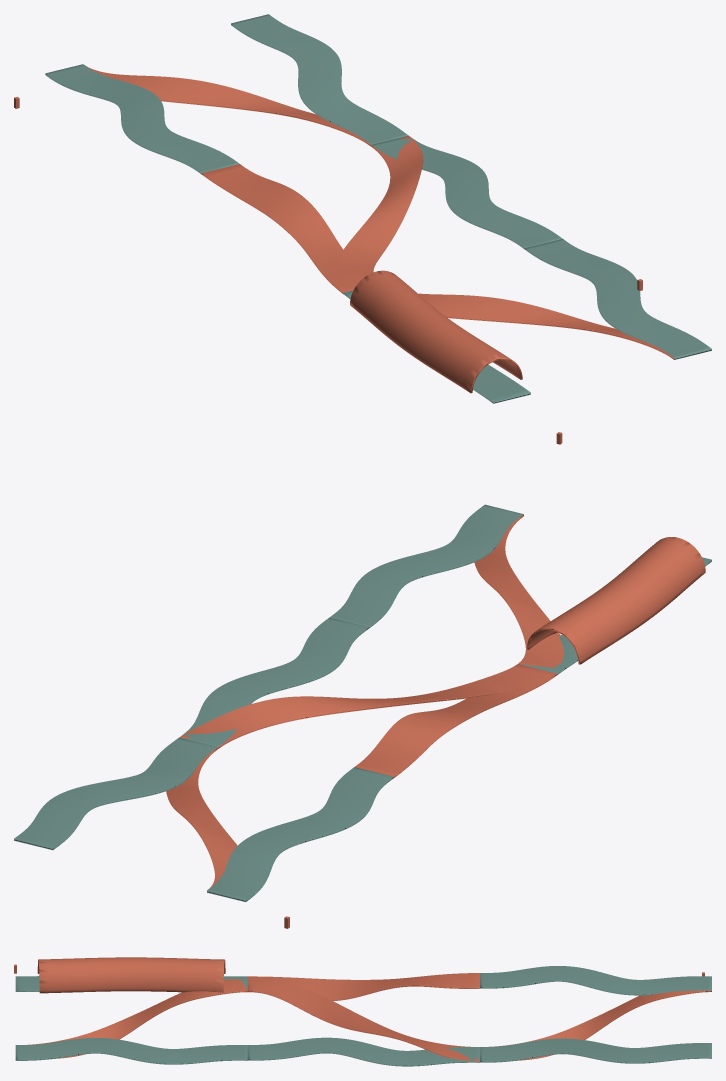
Rendered from topogenesis.glb.
The picture shows the model from 3 angles, top to bottom: view 1: azimuth 30°, elevation 25°; view 2: azimuth 150°, elevation 25°; view 3: azimuth 270°, elevation 25°; orthographic projection. The views are drawn at different scales.
Visible parts, largest first — view 1: port-0-2-to-port-0-3-vault-render, port-1-0-to-port-1-1-deck-render, port-1-2-to-port-1-3-deck-render, port-0-0-to-port-0-1-deck-render, port-0-1-to-port-0-2-deck-render, port-1-1-to-port-1-2-deck-render, port-1-1-to-port-0-2-deck-render, port-0-0-to-port-1-1-deck-render, port-0-2-to-port-1-3-deck-render, port-0-2-to-port-0-3-deck-render; view 2: port-0-2-to-port-0-3-vault-render, port-0-0-to-port-0-1-deck-render, port-1-2-to-port-1-3-deck-render, port-1-0-to-port-1-1-deck-render, port-1-1-to-port-1-2-deck-render, port-0-1-to-port-0-2-deck-render, port-1-1-to-port-0-2-deck-render, port-0-2-to-port-1-3-deck-render, port-0-0-to-port-1-1-deck-render; view 3: port-0-2-to-port-0-3-vault-render, port-1-2-to-port-1-3-deck-render, port-1-0-to-port-1-1-deck-render, port-0-0-to-port-0-1-deck-render, port-1-1-to-port-1-2-deck-render, port-0-1-to-port-0-2-deck-render, port-1-1-to-port-0-2-deck-render, port-0-2-to-port-1-3-deck-render, port-0-0-to-port-1-1-deck-render, port-0-2-to-port-0-3-deck-render.
Part boxes in pixels (x1,y1,x2,y2): port-0-2-to-port-0-3-vault-render: (350, 270, 522, 393); port-1-0-to-port-1-1-deck-render: (231, 14, 408, 144); port-1-2-to-port-1-3-deck-render: (525, 239, 711, 359); port-0-0-to-port-0-1-deck-render: (45, 64, 239, 174); port-0-1-to-port-0-2-deck-render: (202, 164, 368, 294); port-1-1-to-port-1-2-deck-render: (371, 136, 562, 249); port-1-1-to-port-0-2-deck-render: (334, 135, 423, 273); port-0-0-to-port-1-1-deck-render: (85, 65, 371, 146); port-0-2-to-port-1-3-deck-render: (418, 293, 674, 359); port-0-2-to-port-0-3-deck-render: (344, 290, 530, 403); port-0-2-to-port-0-3-vault-render: (526, 537, 705, 664); port-0-0-to-port-0-1-deck-render: (207, 767, 393, 901); port-1-2-to-port-1-3-deck-render: (329, 504, 523, 628); port-1-0-to-port-1-1-deck-render: (14, 737, 217, 850); port-1-1-to-port-1-2-deck-render: (180, 617, 368, 746); port-0-1-to-port-0-2-deck-render: (355, 664, 556, 777); port-1-1-to-port-0-2-deck-render: (179, 665, 515, 748); port-0-2-to-port-1-3-deck-render: (474, 514, 563, 668); port-0-0-to-port-1-1-deck-render: (166, 747, 237, 889); port-0-2-to-port-0-3-vault-render: (37, 957, 225, 993); port-1-2-to-port-1-3-deck-render: (15, 1038, 247, 1064); port-1-0-to-port-1-1-deck-render: (480, 1038, 711, 1063); port-0-0-to-port-0-1-deck-render: (480, 966, 711, 995); port-1-1-to-port-1-2-deck-render: (247, 1037, 479, 1066); port-0-1-to-port-0-2-deck-render: (247, 973, 479, 1000); port-1-1-to-port-0-2-deck-render: (247, 982, 479, 1061); port-0-2-to-port-1-3-deck-render: (27, 978, 247, 1058); port-0-0-to-port-1-1-deck-render: (489, 990, 711, 1060); port-0-2-to-port-0-3-deck-render: (15, 976, 247, 991).
Size of what is drawn, in the model's own units: 231 by 87.51 by 662.
